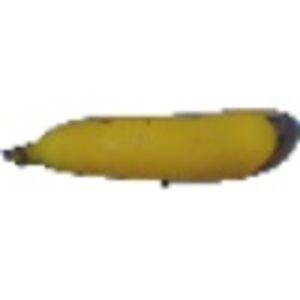banana: (18, 94, 295, 190)
